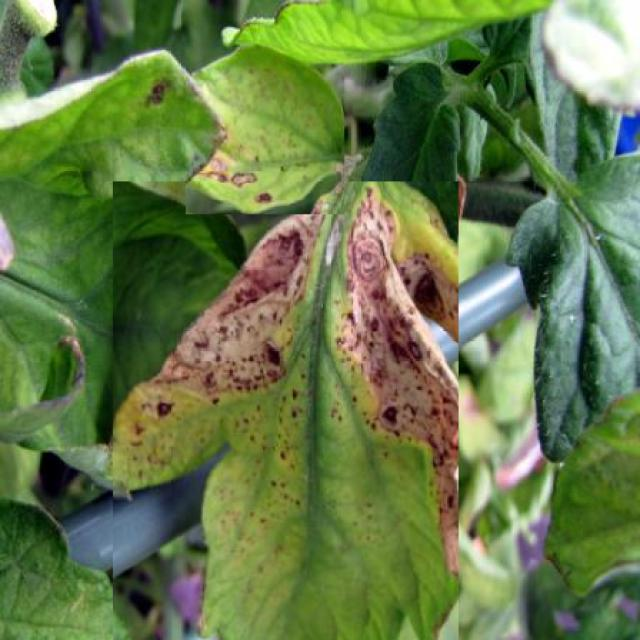Early Blight: (113, 181, 458, 640), (186, 42, 344, 214)
